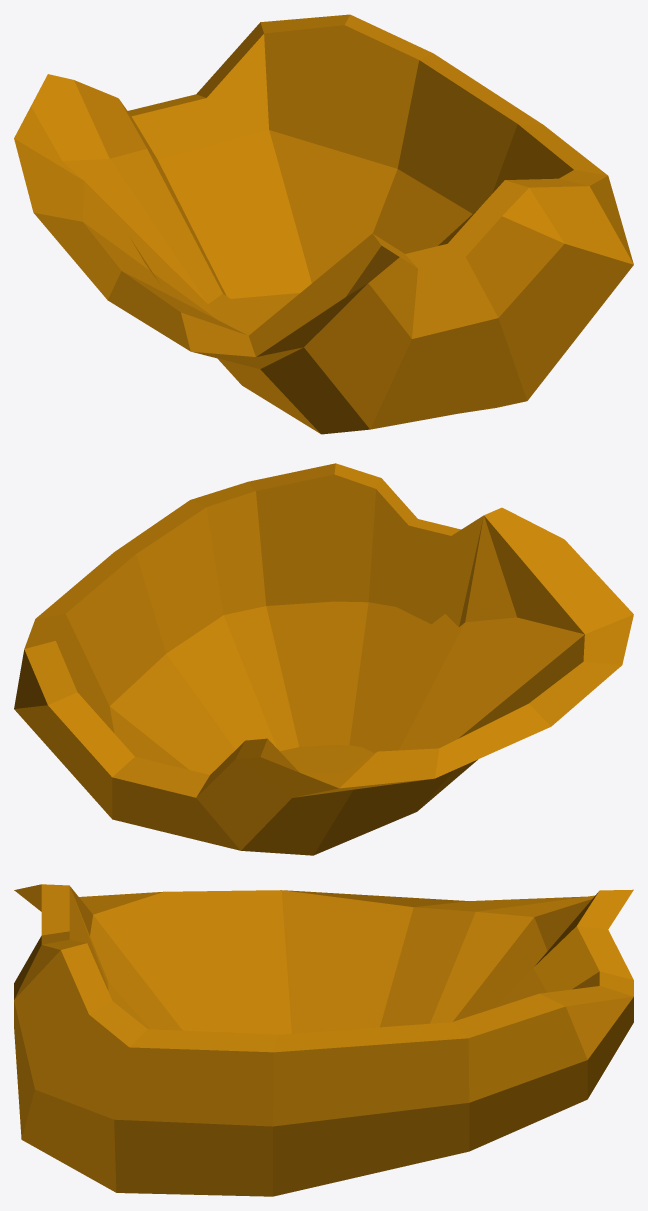
File: pepperfruit04.gltf
The picture shows the model from 3 angles, top to bottom: view 1: azimuth 30°, elevation 25°; view 2: azimuth 150°, elevation 25°; view 3: azimuth 270°, elevation 25°; orthographic projection. The views are drawn at different scales.
Parts seen in each view (by area): view 1: Cylinder.001; view 2: Cylinder.001; view 3: Cylinder.001.
Boxes of the visible parts, x1,y1,x2,y2 form: Cylinder.001: [14, 14, 633, 434]; Cylinder.001: [14, 463, 633, 855]; Cylinder.001: [14, 884, 633, 1196].
Size of the model in its own units: 0.0636 by 0.0333 by 0.0748.
1 material, 1 textured.
